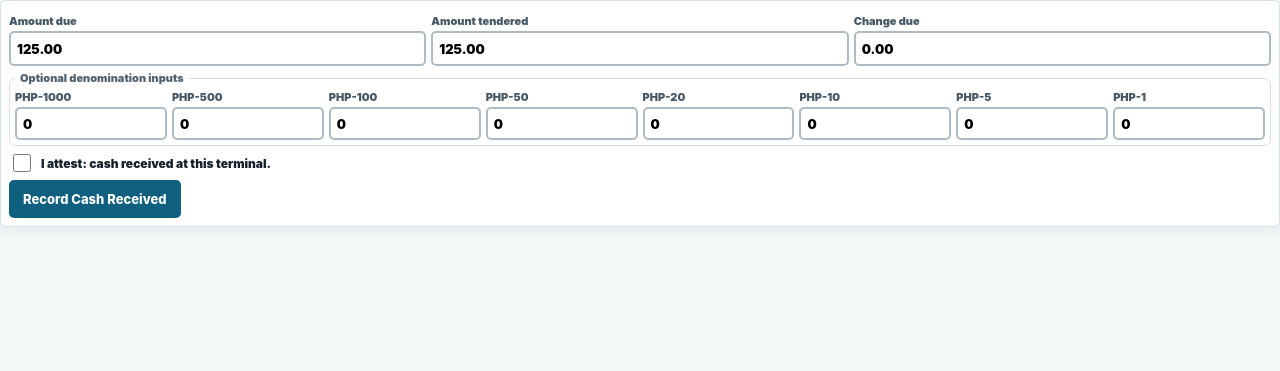
Test: CashCapturePanel › shows deterministic conflict when duplicate unresolved tender is rejected
The width and height of the screenshot is (1280, 371).
Replace the text in the field labelled "Amount tendered" with "150" at (640, 48), box [431,31,849,66]
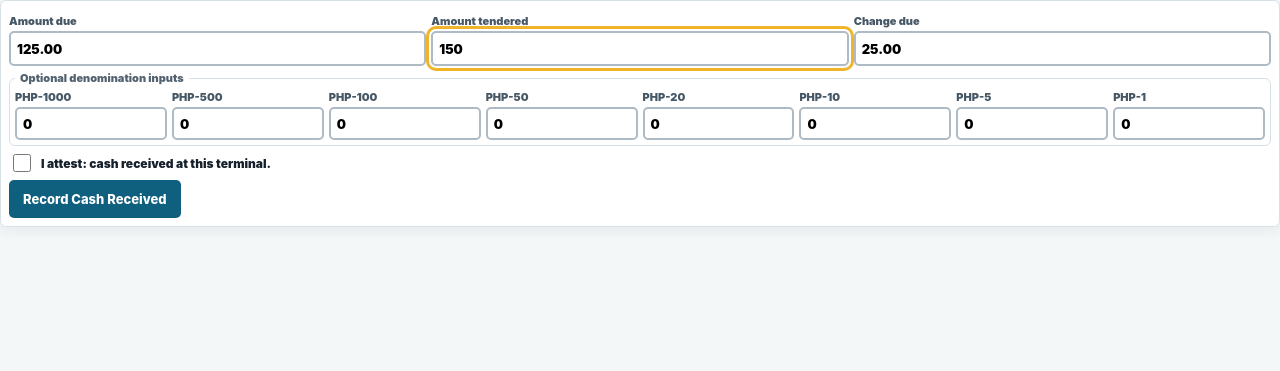
Click the checkbox labelled "I attest: cash received at this terminal." at (22, 163), box [13,154,31,172]
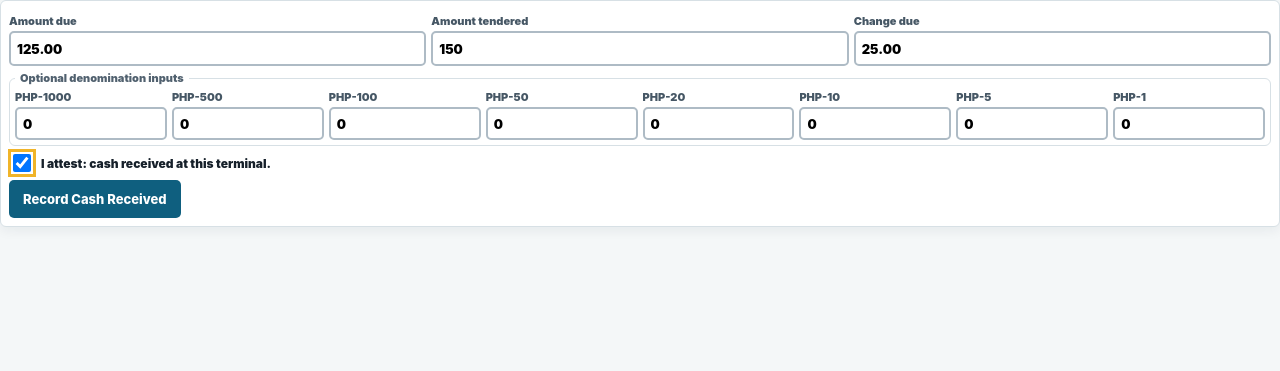
Click the button "Record Cash Received" at (95, 199), box [9,180,180,218]
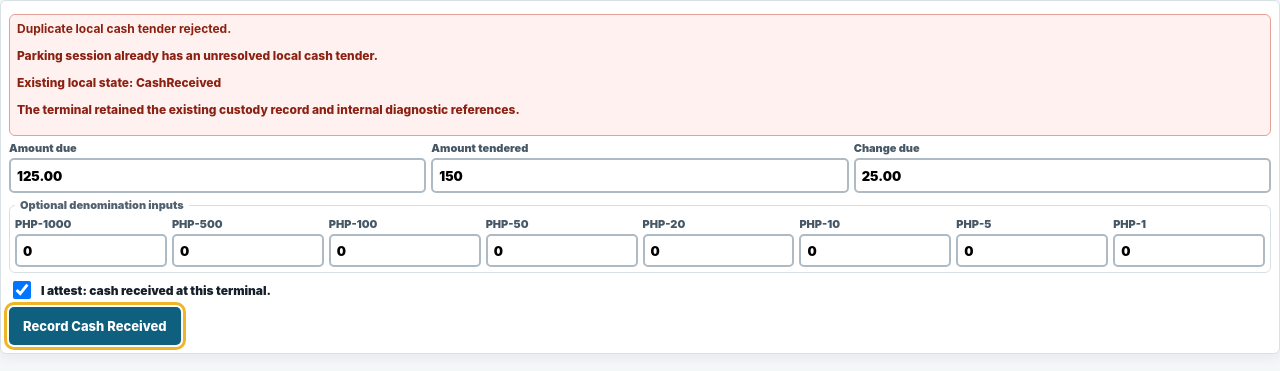
expect the text "Duplicate local cash tender rejected." is shown: met, box [17,21,231,36]
expect the text "retained the existing custody record" is shown: met, box [17,102,520,117]
